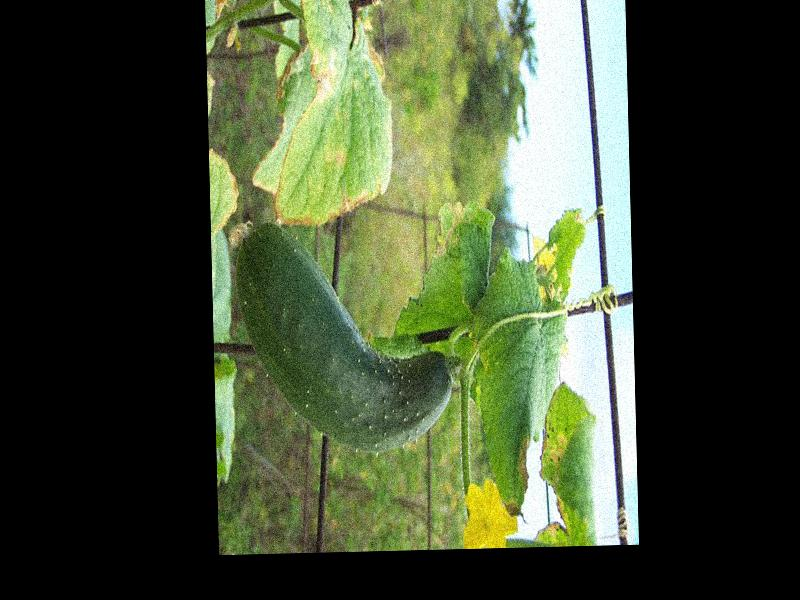Cucumber: (233, 215, 456, 453)
